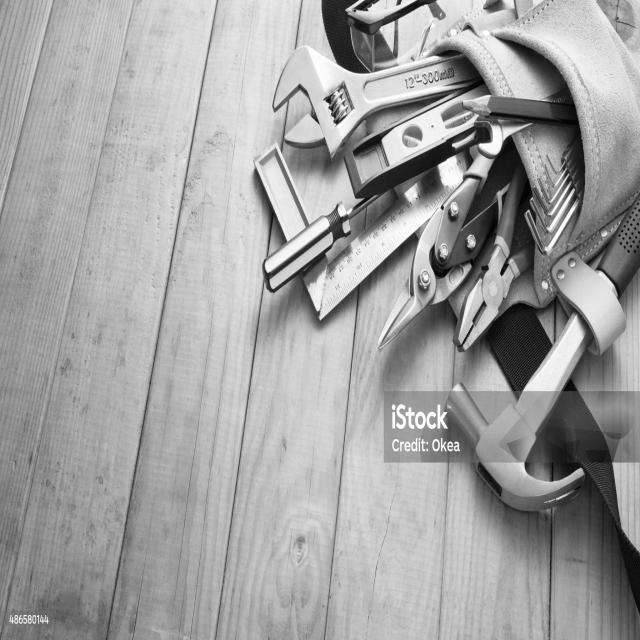angle_iron: (252, 140, 477, 323)
glasses: (344, 0, 485, 70)
hammer: (436, 189, 635, 515)
level: (348, 82, 493, 202)
pencil: (460, 92, 579, 131)
pliers: (376, 145, 528, 345), (443, 150, 541, 359)
screwdriver: (251, 145, 461, 307)
wrench: (264, 40, 486, 174), (523, 131, 586, 255), (473, 112, 531, 159)
